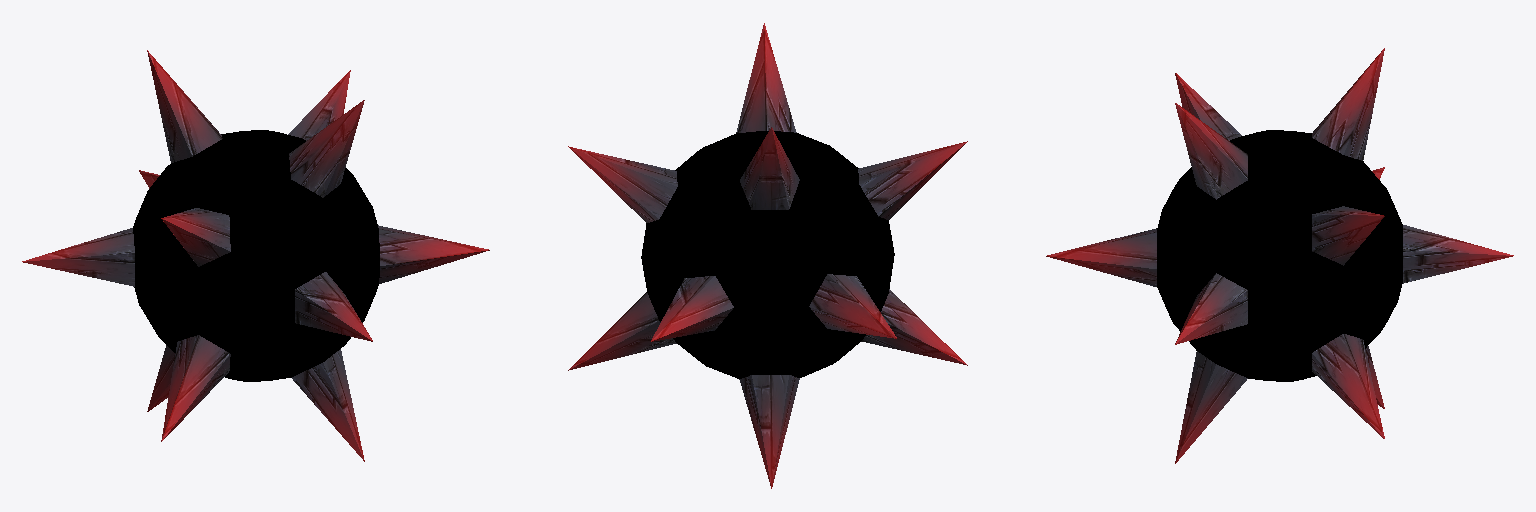
3 renders of one model, left to right at view 1: azimuth 30°, elevation 25°; view 2: azimuth 150°, elevation 25°; view 3: azimuth 270°, elevation 25°, orthographic.
Parts seen in each view (by area): view 1: pPlatonic1; view 2: pPlatonic1; view 3: pPlatonic1.
Boxes of the visible parts, x1=… form: pPlatonic1: x1=22, y1=50, x2=489, y2=461; pPlatonic1: x1=568, y1=23, x2=967, y2=488; pPlatonic1: x1=1046, y1=48, x2=1513, y2=463.
Size of the model in its own units: 3.33 by 3.16 by 3.72.
Materials: 2 (1 with a texture image).